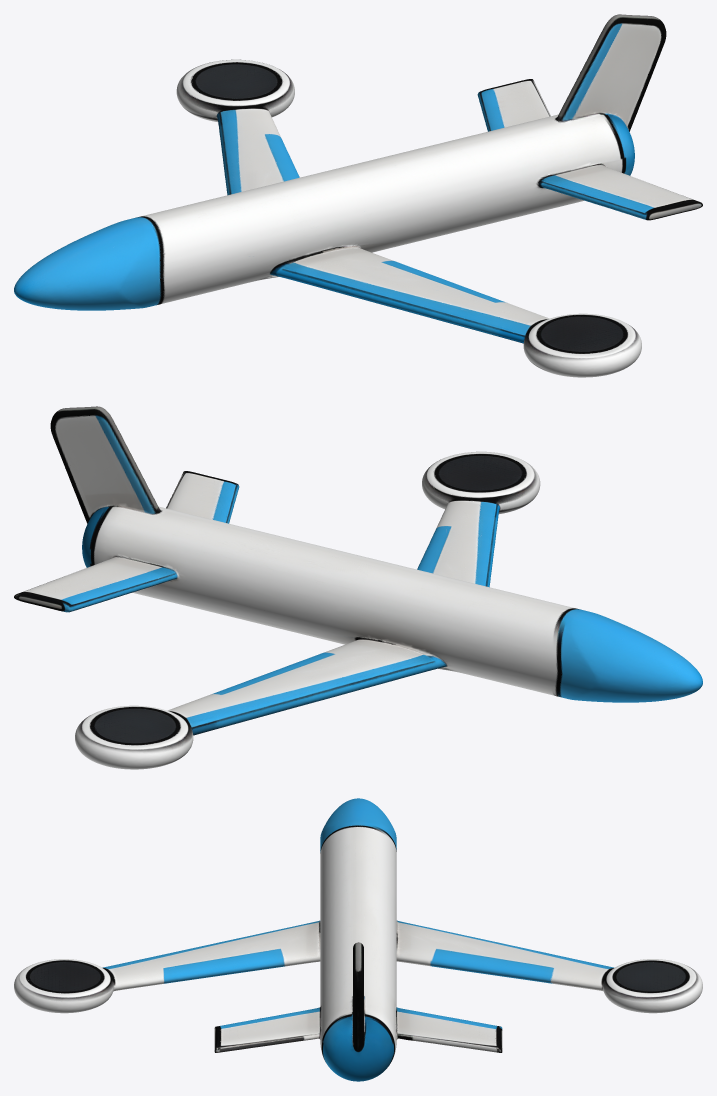
File: drone.glb
3 views of the same model, one above another, from view 1: azimuth 30°, elevation 25°; view 2: azimuth 150°, elevation 25°; view 3: azimuth 270°, elevation 25° (orthographic). The views are drawn at different scales.
Size of the model in its own units: 1.76 by 0.4433 by 1.9.
Materials: 1 (1 with a texture image).
